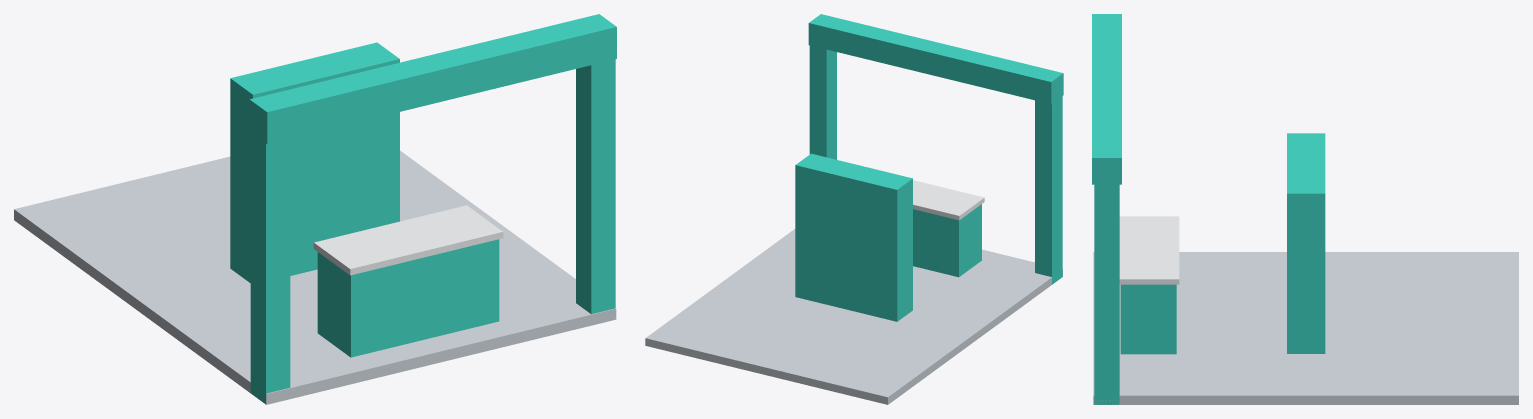
3 views of the same model, side by side, from view 1: azimuth 30°, elevation 25°; view 2: azimuth 150°, elevation 25°; view 3: azimuth 270°, elevation 25° (orthographic). The views are drawn at different scales.
Parts seen in each view (by area): view 1: Exhibition Booth Concept; view 2: Exhibition Booth Concept; view 3: Exhibition Booth Concept.
Boxes of the visible parts, x1,y1,x2,y2 form: Exhibition Booth Concept: (14,14,616,404); Exhibition Booth Concept: (645,14,1063,404); Exhibition Booth Concept: (1092,14,1518,404).
Bounding box in the file's own units: 4 × 3.2 × 5.02.
